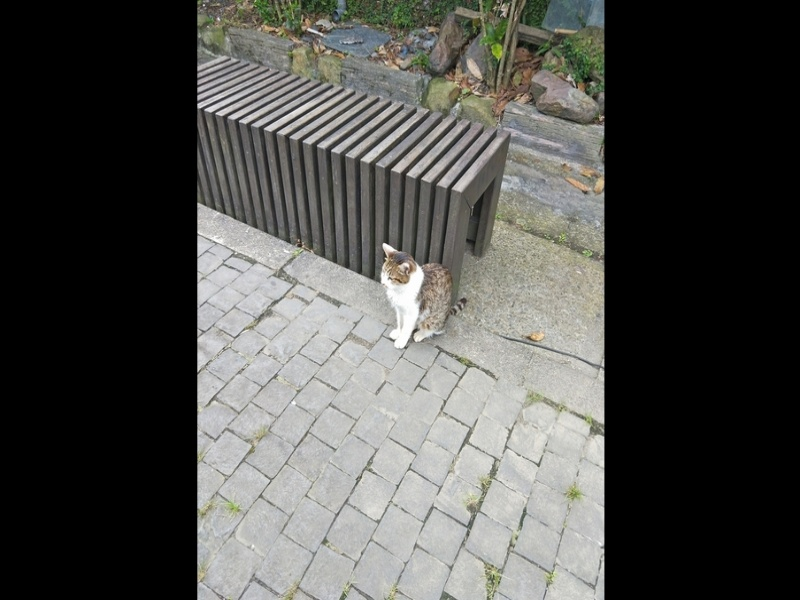cat: (378, 241, 471, 351)
